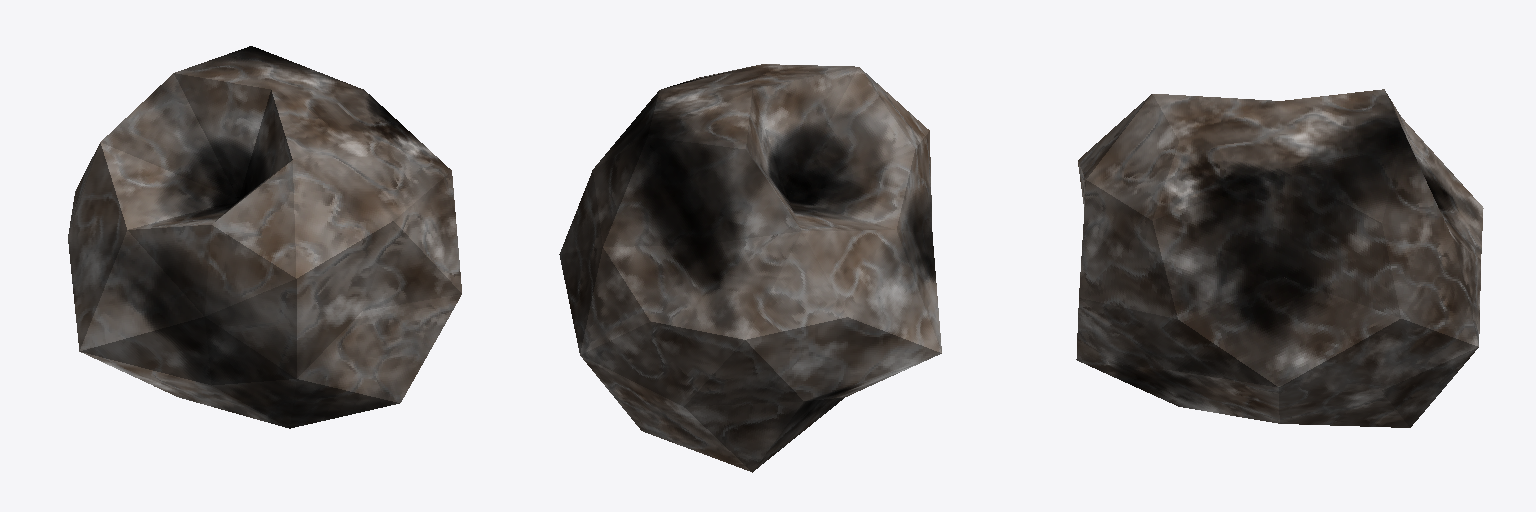
The picture shows the model from 3 angles: view 1: azimuth 30°, elevation 25°; view 2: azimuth 150°, elevation 25°; view 3: azimuth 270°, elevation 25°; orthographic projection.
Bounding box in the file's own units: 3.46 × 3.07 × 3.48.
1 materials, 1 textured.